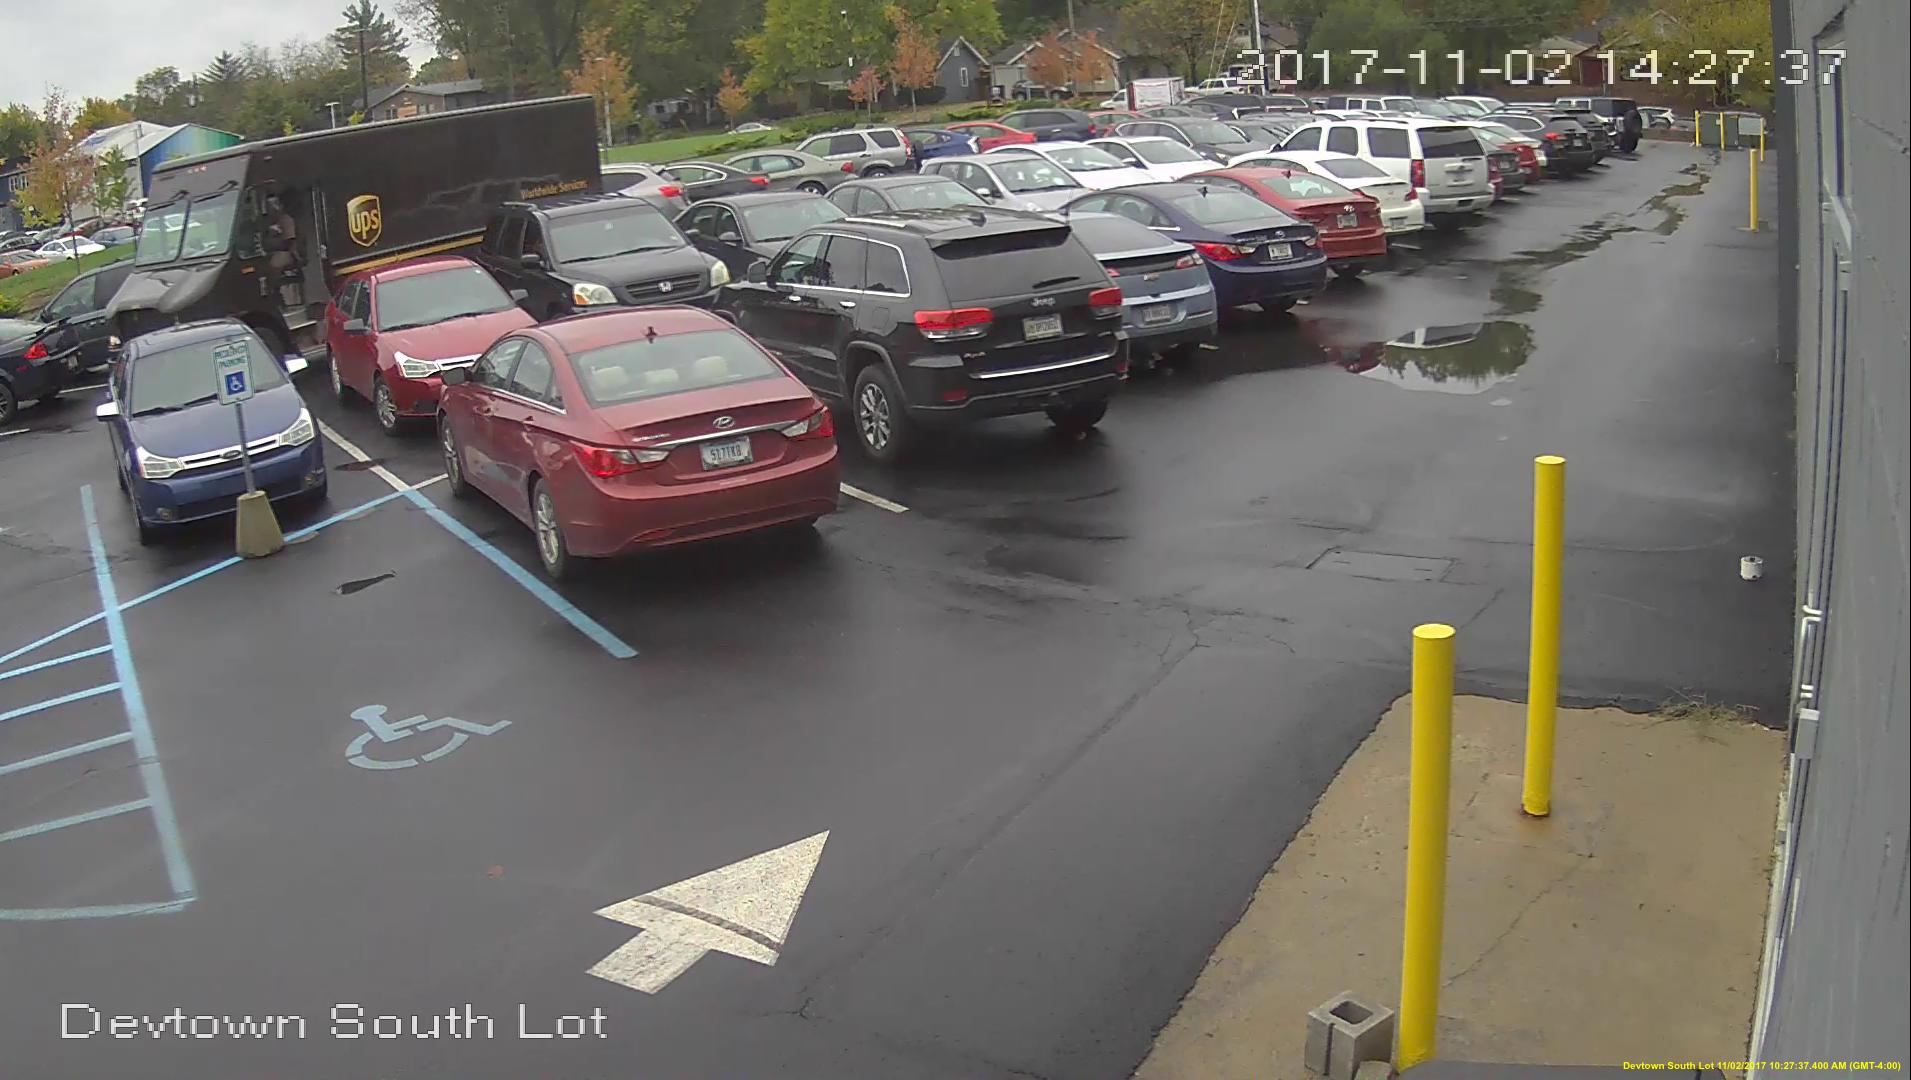ups_truck: (131, 115, 609, 301)
